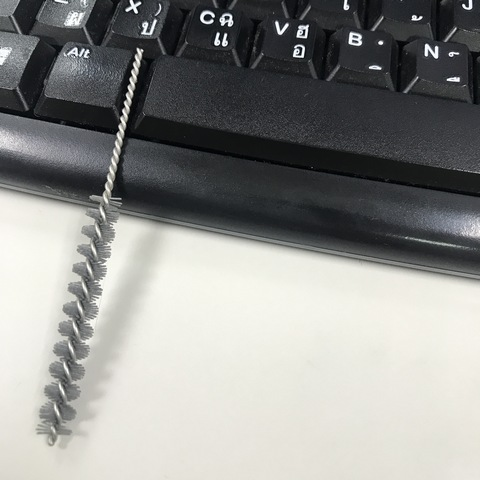Twist Brush-A: (37, 47, 144, 450)
